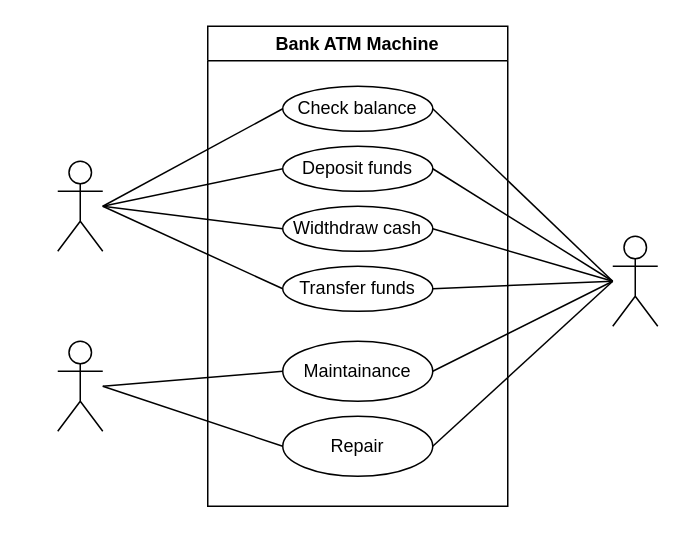
Image size: 686x533. Some labels were removed from this diagram. Here are the shapes that lost their labels. From the top down, the centre of each, then its label:
At point 79,205: "CUSTOMER".
At point 634,280: "BANK".
At point 79,385: "TECHNICIAN".
